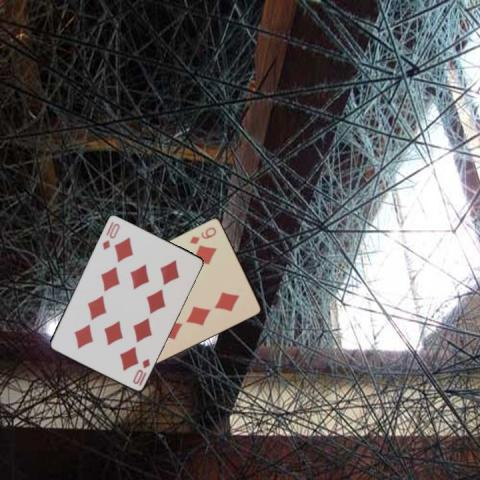10d: (100, 220, 122, 251), (130, 356, 151, 386)
9d: (187, 224, 218, 246)
